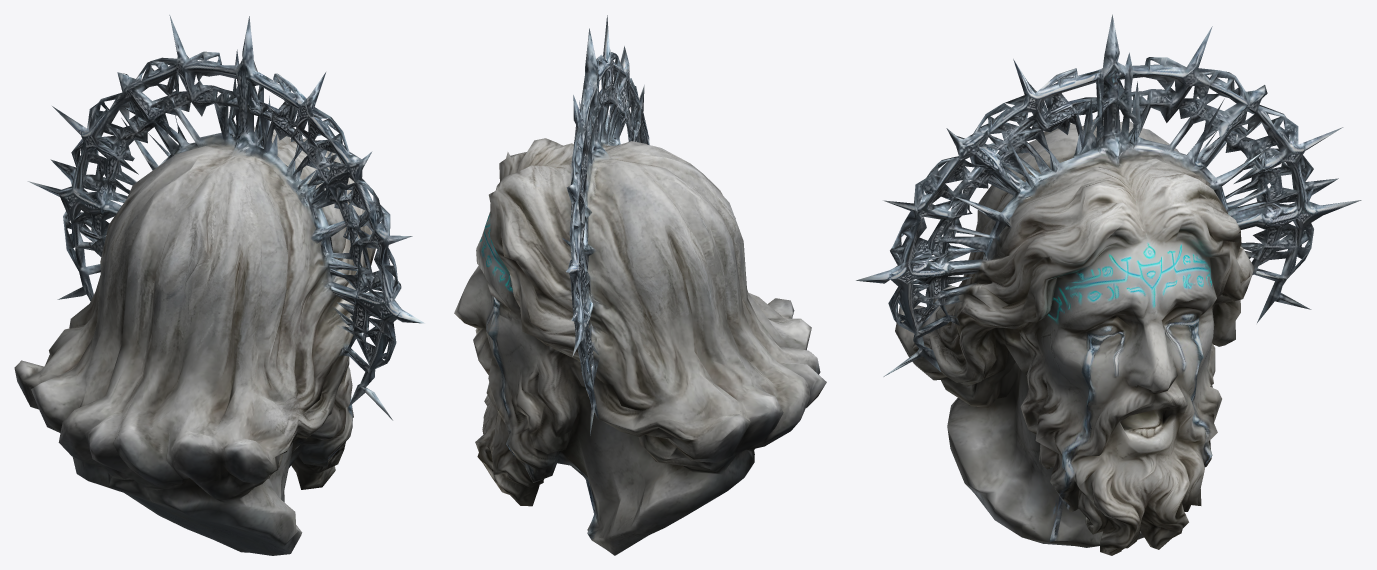
Rendered from model_choir.glb.
The picture shows the model from 3 angles, left to right: view 1: azimuth 30°, elevation 25°; view 2: azimuth 150°, elevation 25°; view 3: azimuth 270°, elevation 25°; orthographic projection. The views are drawn at different scales.
Parts seen in each view (by area): view 1: tripo_node_f703a3c7-9680-4097-8657-adbdb1c0d28a; view 2: tripo_node_f703a3c7-9680-4097-8657-adbdb1c0d28a; view 3: tripo_node_f703a3c7-9680-4097-8657-adbdb1c0d28a.
Part boxes in pixels (x1=…): tripo_node_f703a3c7-9680-4097-8657-adbdb1c0d28a: x1=14, y1=15, x2=424, y2=555; tripo_node_f703a3c7-9680-4097-8657-adbdb1c0d28a: x1=454, y1=15, x2=826, y2=555; tripo_node_f703a3c7-9680-4097-8657-adbdb1c0d28a: x1=856, y1=14, x2=1361, y2=555.
Size of the model in its own units: 0.6389 by 1 by 0.8455.
Materials: 1 (1 with a texture image).
